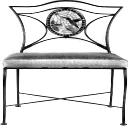chair_success: (1, 0, 127, 128)
